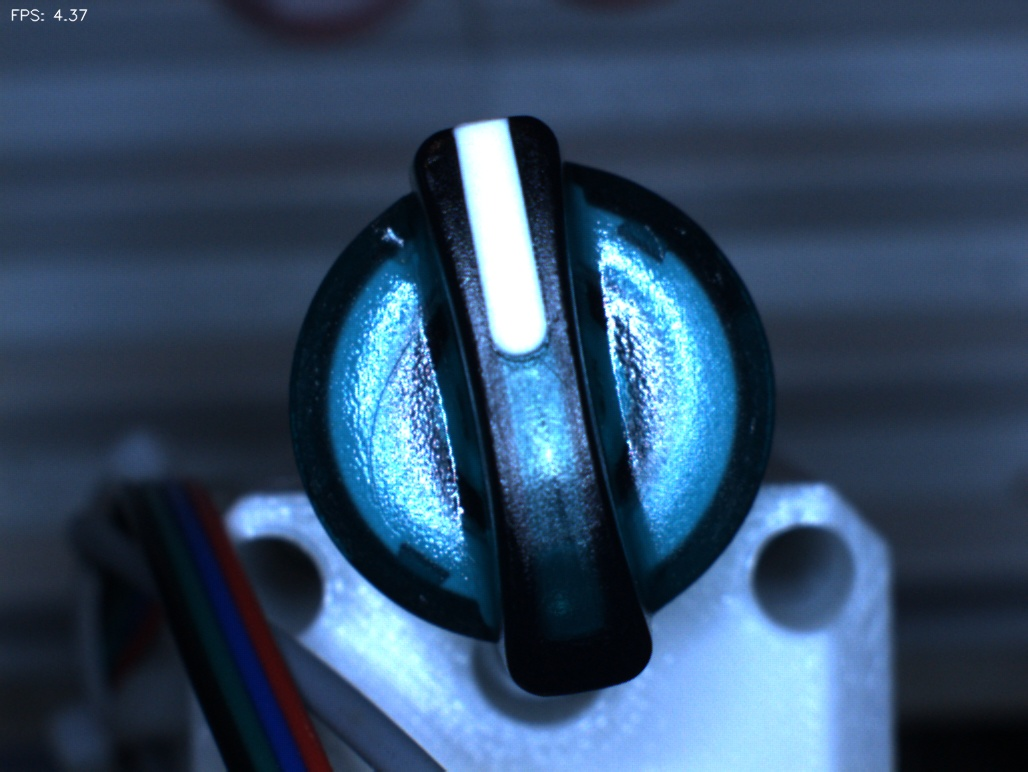Choc: (352, 207, 422, 277)
